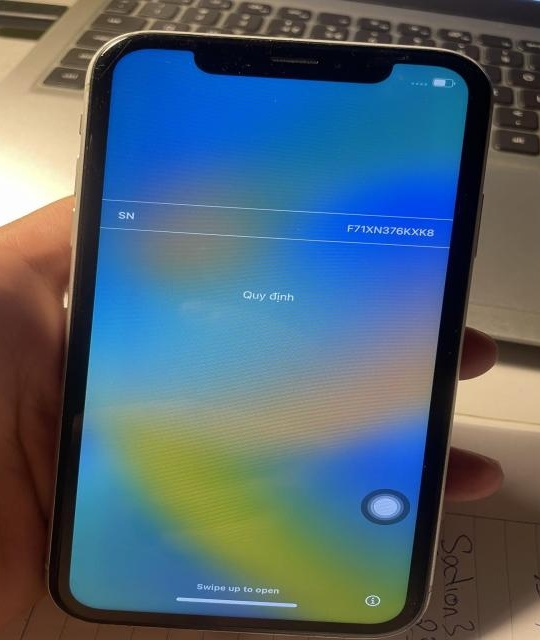physical_damage: (163, 264, 185, 317)
scratch: (78, 33, 137, 89)
